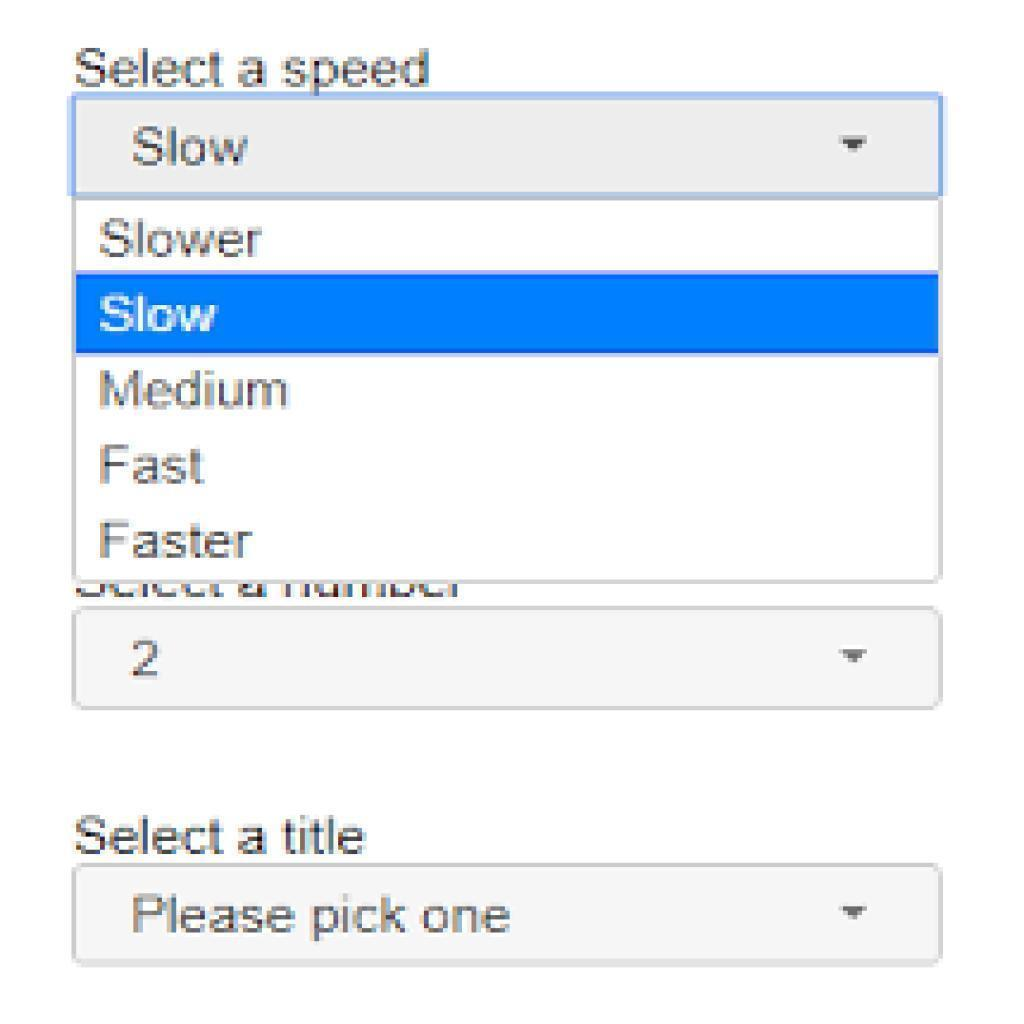button: (75, 272, 938, 354)
dropdown: (69, 91, 945, 198), (71, 862, 944, 967), (75, 606, 943, 710)
